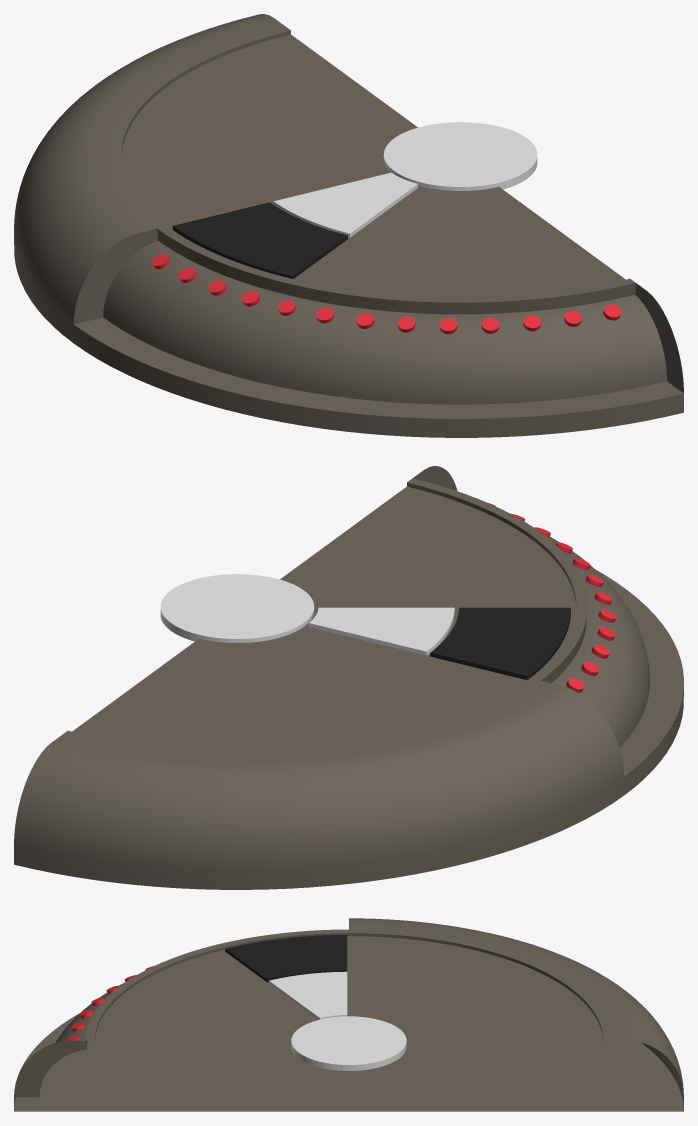
The model's file is table2.fbx.
3 renders of one model, top to bottom at view 1: azimuth 30°, elevation 25°; view 2: azimuth 150°, elevation 25°; view 3: azimuth 270°, elevation 25°, orthographic. The views are drawn at different scales.
Visible parts, largest first — view 1: table, tile.center, tile.outer, tile.inner, buttons.red; view 2: table, tile.center, tile.outer, tile.inner, buttons.red; view 3: table, tile.center, tile.outer, tile.inner, buttons.red.
Part boxes in pixels (box(x1,y1,x2,y2)): table: box(14, 14, 683, 437); tile.center: box(383, 122, 537, 190); tile.outer: box(172, 202, 347, 278); tile.inner: box(273, 172, 417, 237); buttons.red: box(152, 253, 621, 334); table: box(14, 466, 683, 889); tile.center: box(160, 574, 314, 642); tile.outer: box(430, 607, 570, 680); tile.inner: box(308, 607, 454, 655); buttons.red: box(488, 503, 616, 692); table: box(14, 918, 683, 1111); tile.center: box(291, 1016, 406, 1070); tile.outer: box(225, 935, 347, 982); tile.inner: box(269, 971, 347, 1019); buttons.red: box(66, 966, 153, 1040).
Size of the model in its own units: 119 by 23.8 by 203.
